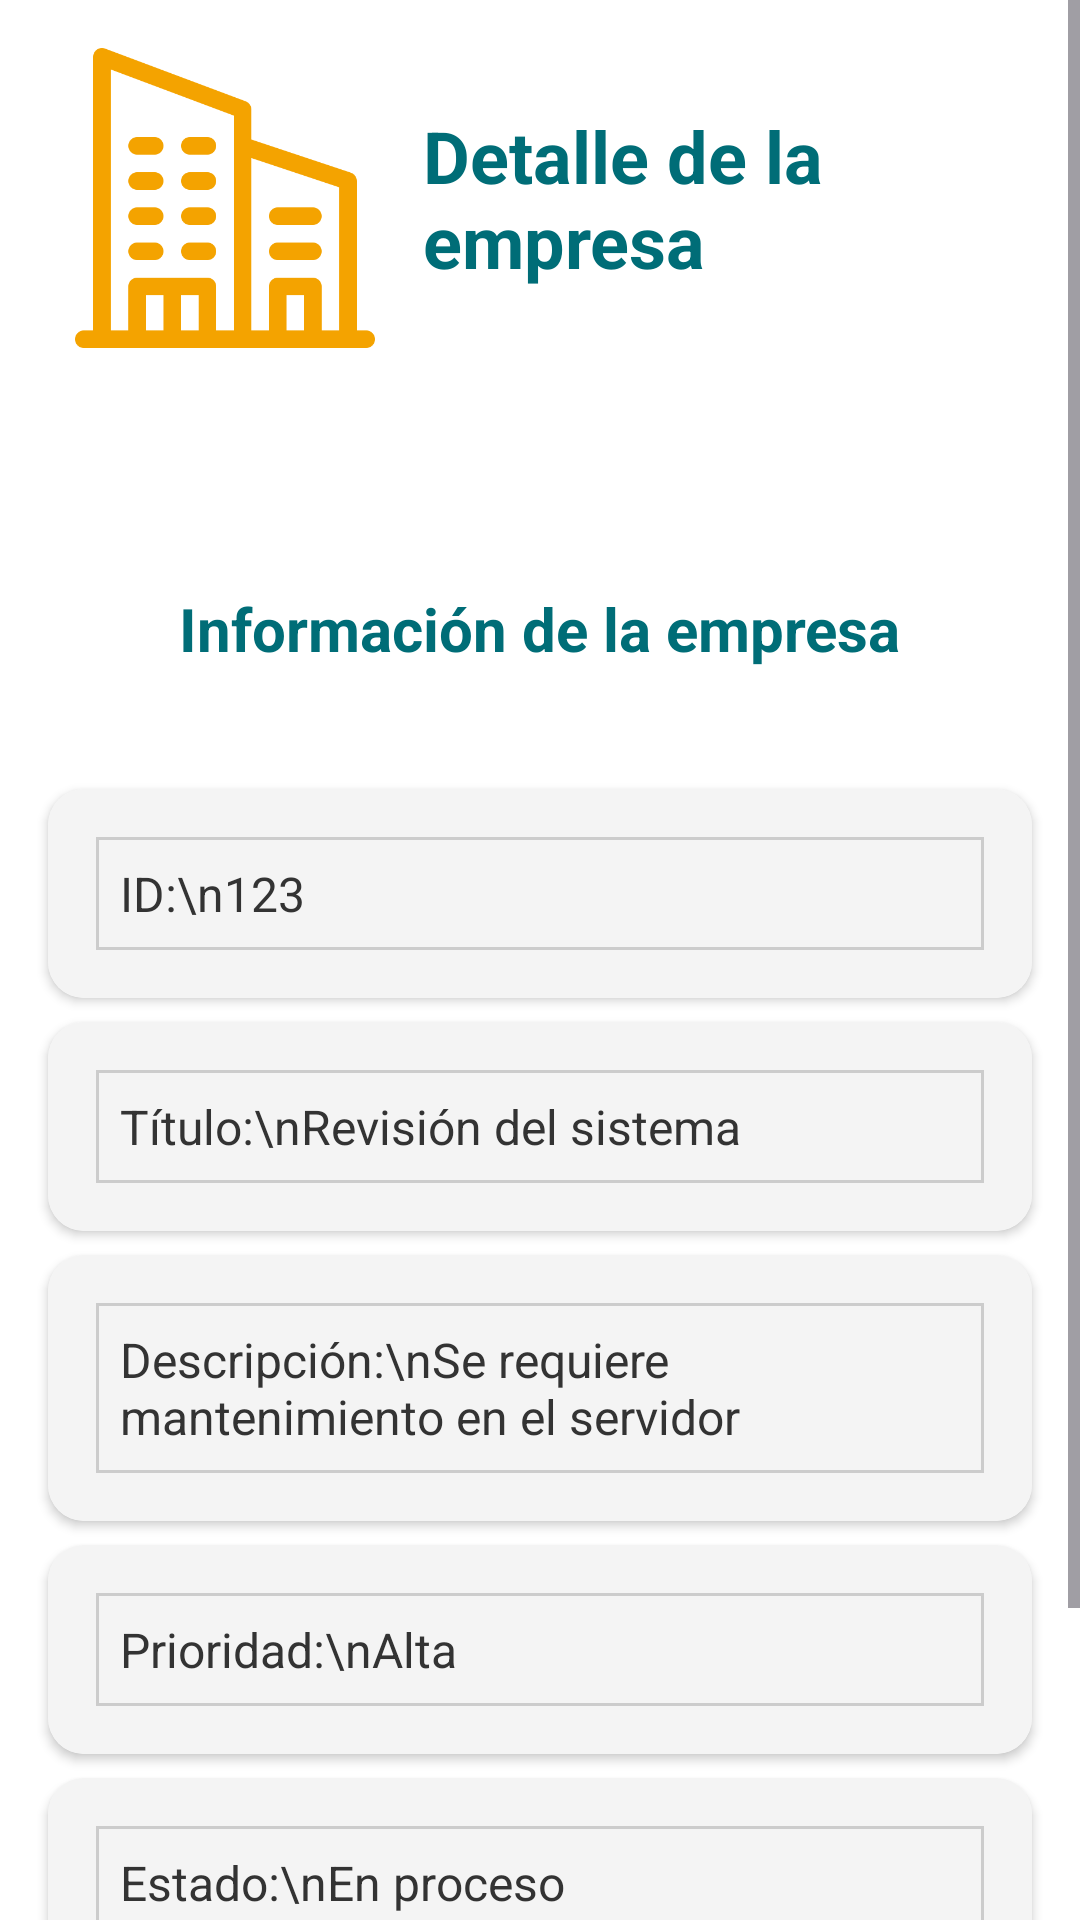

Screen size 1080*1920. Icon name, then its box in pixels as (x1, y1, x2, y2):
edificio: (75, 48, 375, 348)
